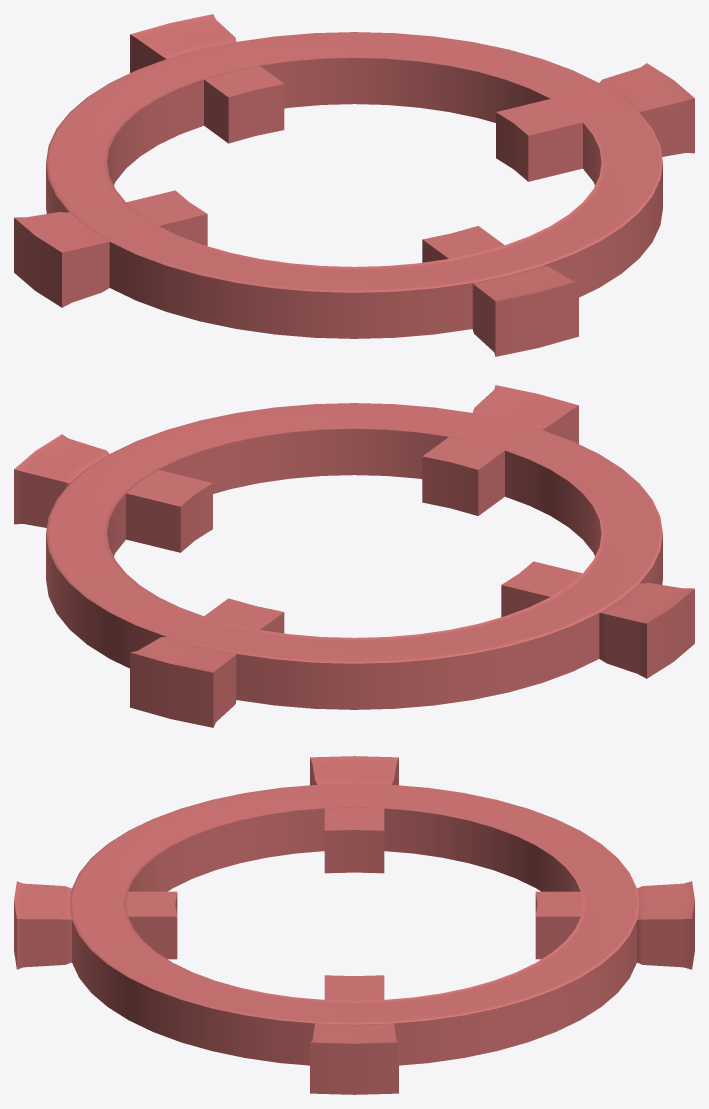
The model's file is Indicator_Attack.fbx.
3 renders of one model, top to bottom at view 1: azimuth 30°, elevation 25°; view 2: azimuth 150°, elevation 25°; view 3: azimuth 270°, elevation 25°, orthographic. The views are drawn at different scales.
Visible parts, largest first — view 1: pPipe4; view 2: pPipe4; view 3: pPipe4.
Boxes of the visible parts, <box> form: pPipe4: <box>14,14,694,356</box>; pPipe4: <box>14,385,694,727</box>; pPipe4: <box>14,756,694,1094</box>.
Bounding box in the file's own units: 6.01 × 0.4962 × 6.01.
